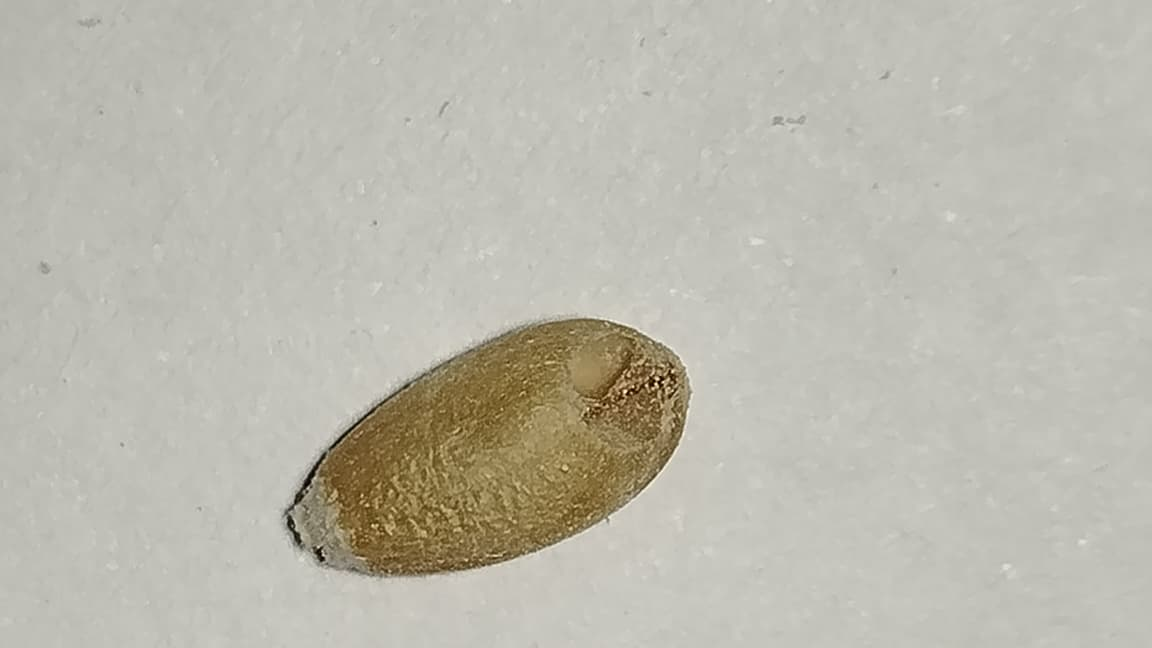damage: (289, 318, 688, 574)
insectdamage: (556, 318, 686, 450)
